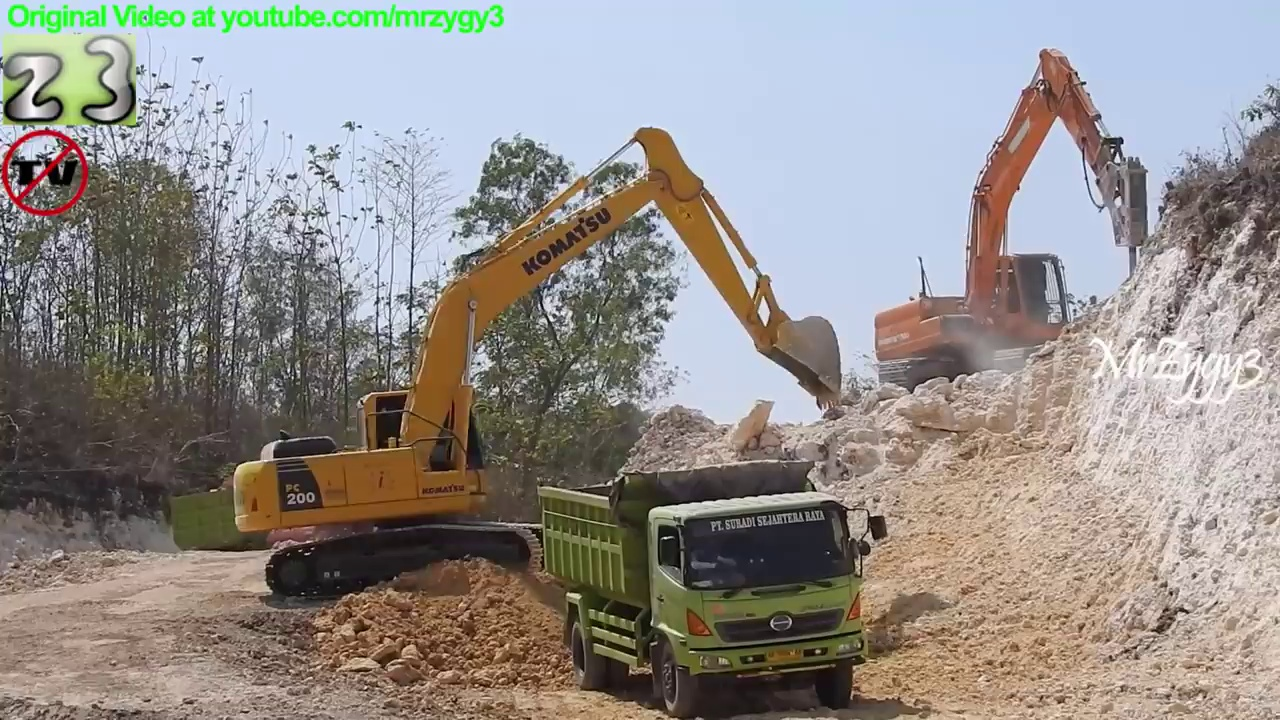excavator: (231, 121, 850, 609), (872, 41, 1158, 406)
truck: (534, 455, 899, 720), (165, 440, 391, 568)
